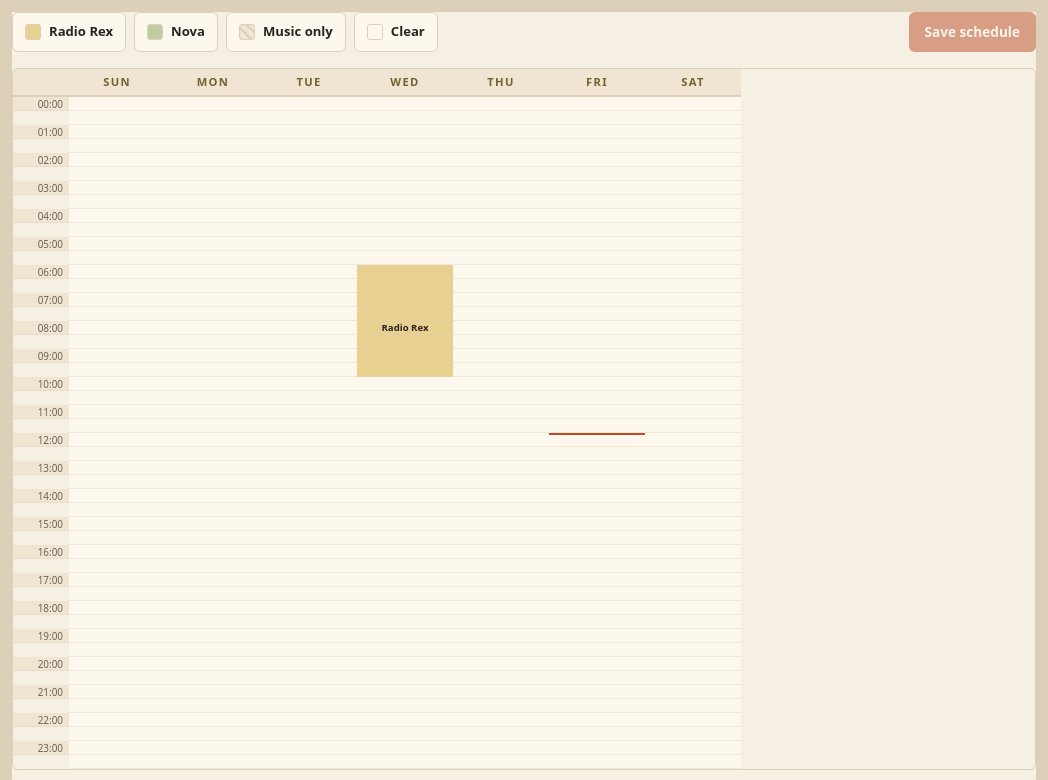
Test: Feature: Grid show picker with span-assign › Scenario: the picker only ever acts on the saved grid › disables every control while there is an unsaved paint change, with a save-first affordance
Click the 1st button "Radio Rex" at (69, 32), box [12,12,126,52]
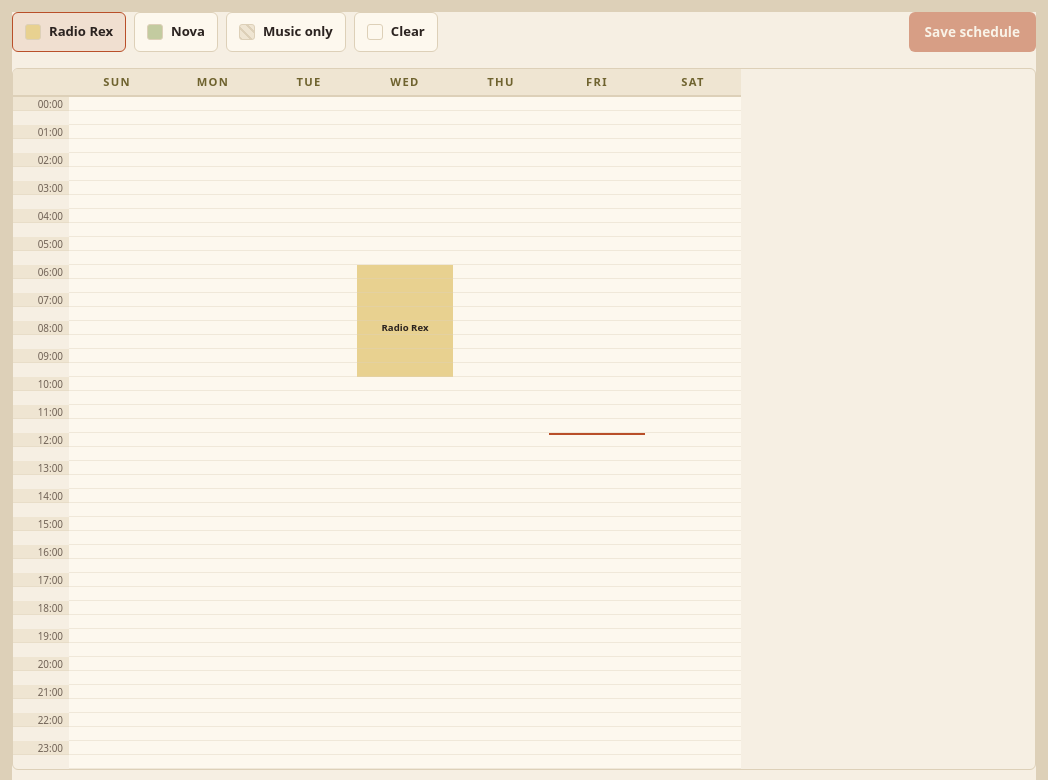
Press the mouse on the button named "Sunday 02:30–03:00, empty" at (117, 174), box [69,167,165,181]
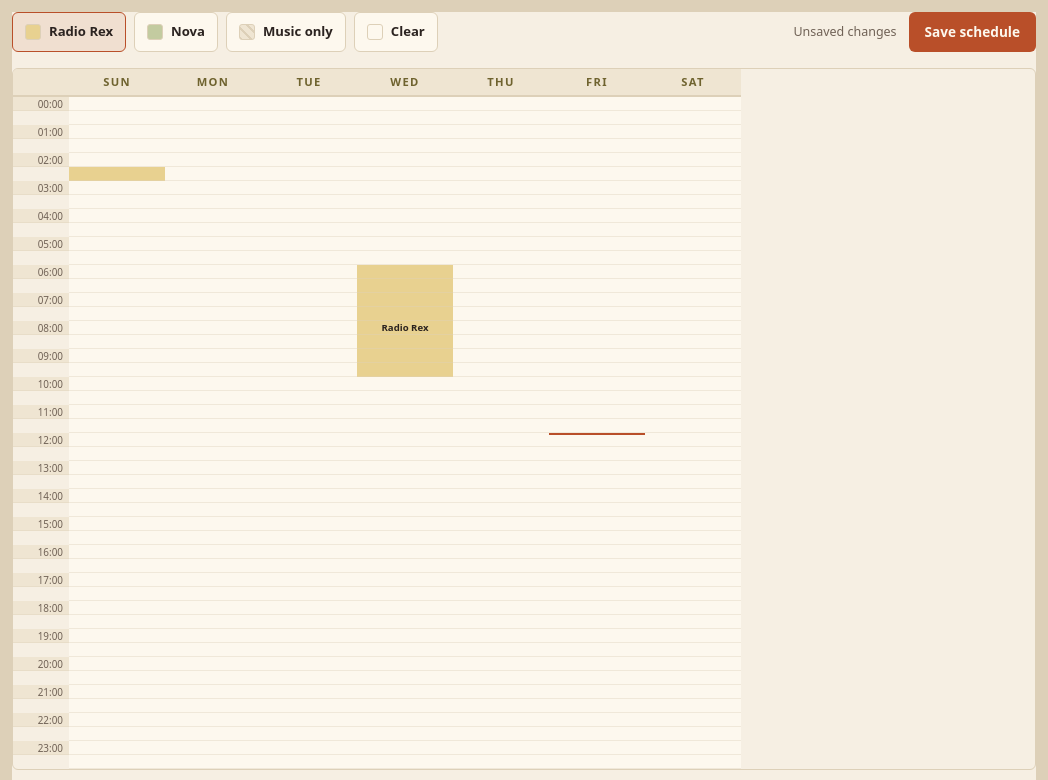
Click the button "Radio Rex" in the row of "Unsaved changes" at (69, 32), box [12,12,126,52]
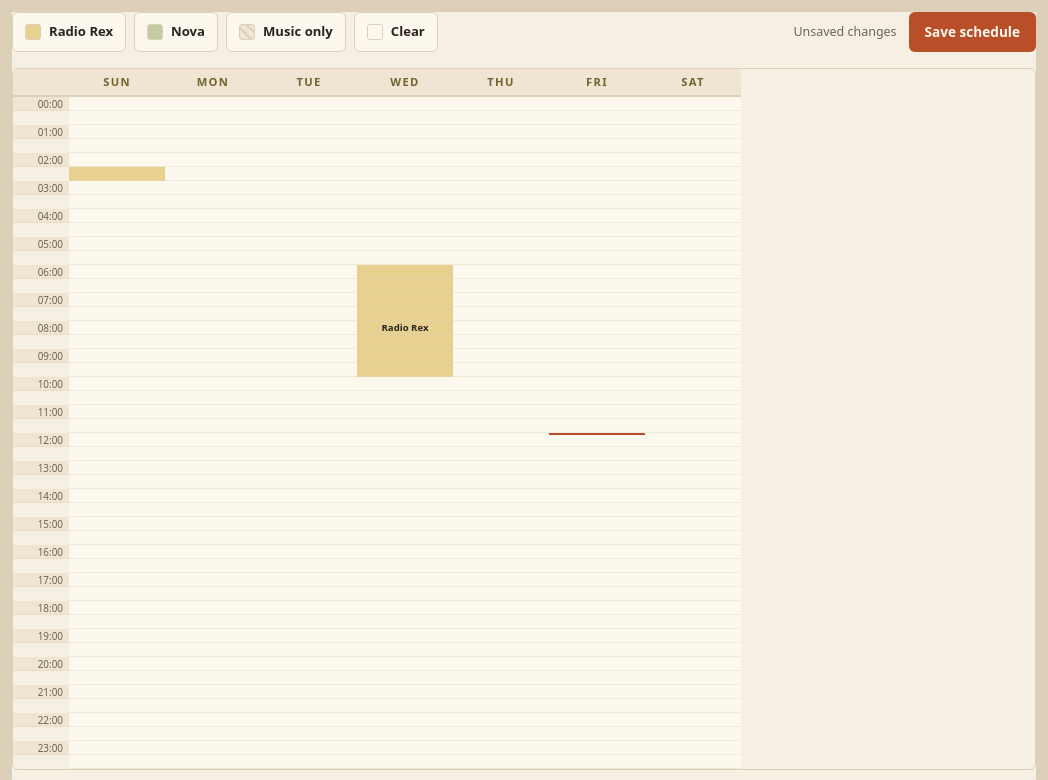
Press the mouse on the button named "Wednesday 07:30–08:00, Radio Rex" at (405, 314), box [357,307,453,321]
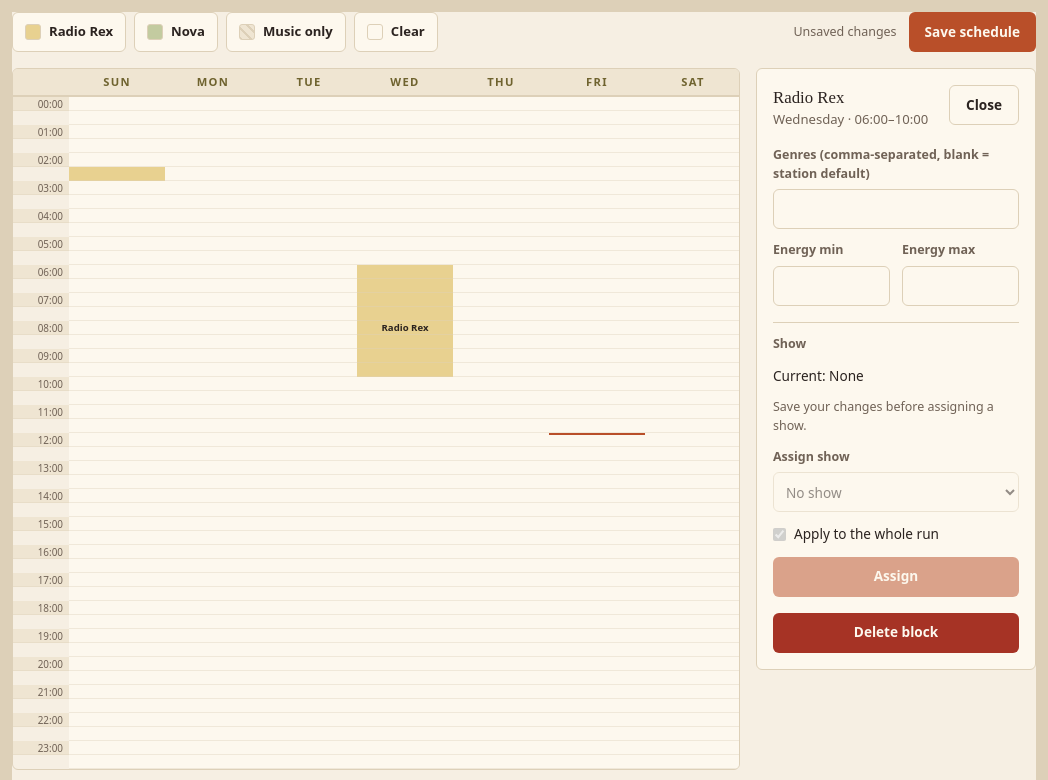
Expected: the text "Save your changes before assigning a show." is shown, [773,398,1019,436]
Expected: the dropdown labelled "Assign show" is disabled, [773,472,1019,512]
Expected: the checkbox labelled "Apply to the whole run" is disabled, [773,528,786,541]
